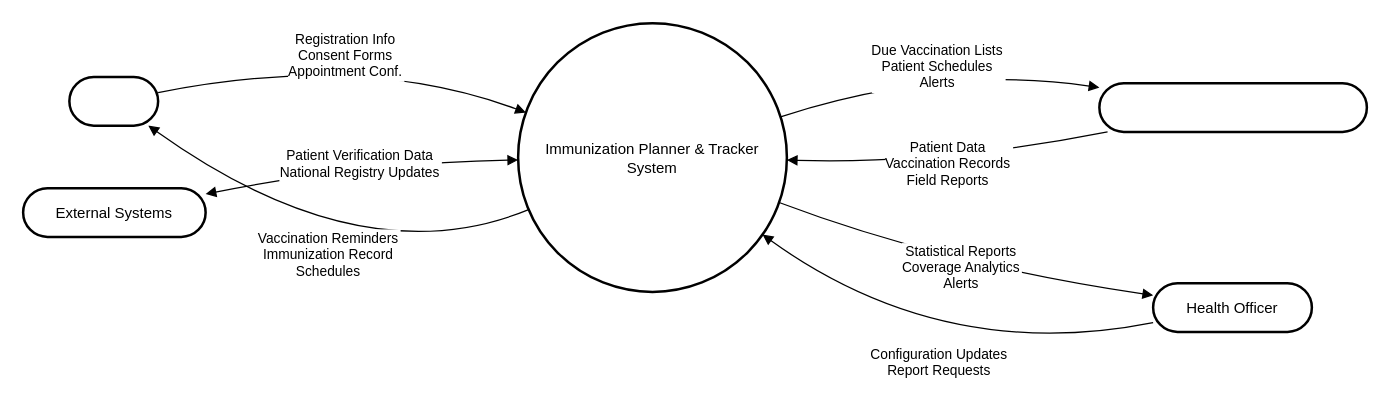
Image size: 1389x399. Some labels were removed from this diagram. The shapes that lost their labels are listed below. From the top down, each one's box as (x1, y1, x2, y2) in pixels, then its label:
(68, 75, 159, 126): Parent
(1098, 81, 1368, 132): Community Health Worker
